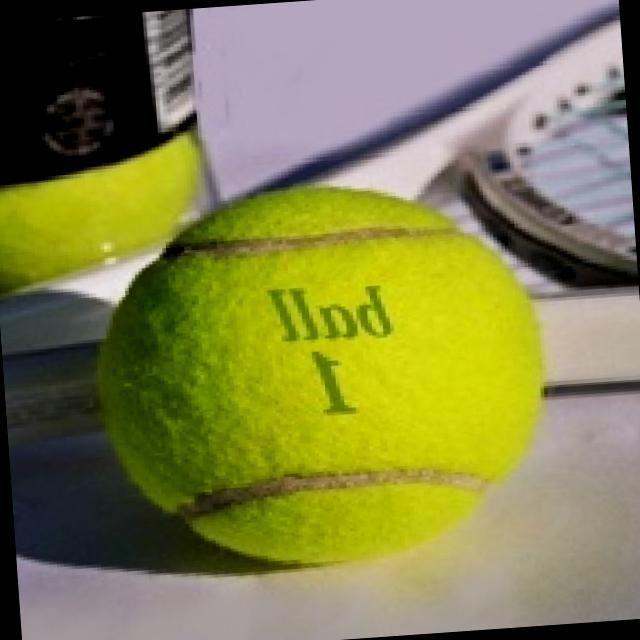Tennis Ball: (97, 184, 545, 575), (0, 132, 198, 293)
